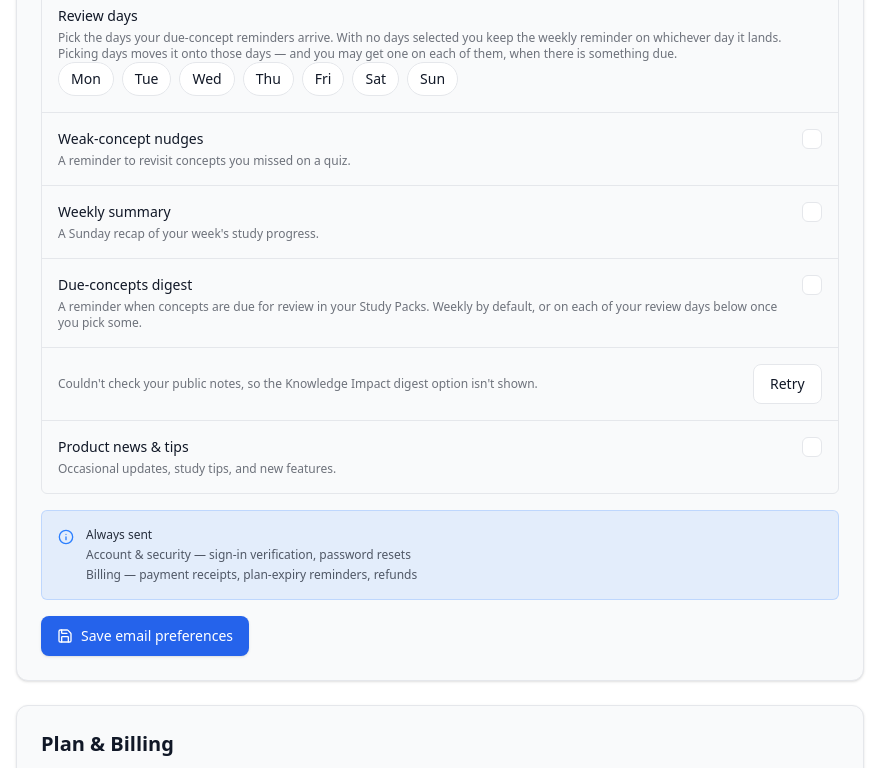
Test: Settings page cancellation flow › shows a retryable notice instead of silently hiding the digest option when the impact check fails
(page scrolled)
Expected: the text "Couldn't check your public notes, so the Knowledge Impact digest option isn't shown." is shown, [58,375,538,392]
Expected: the checkbox named "Weekly summary" is shown, [802,202,822,222]
Step 1. Click the button "Retry" → click(788, 384), box [753,364,822,404]
(page scrolled)
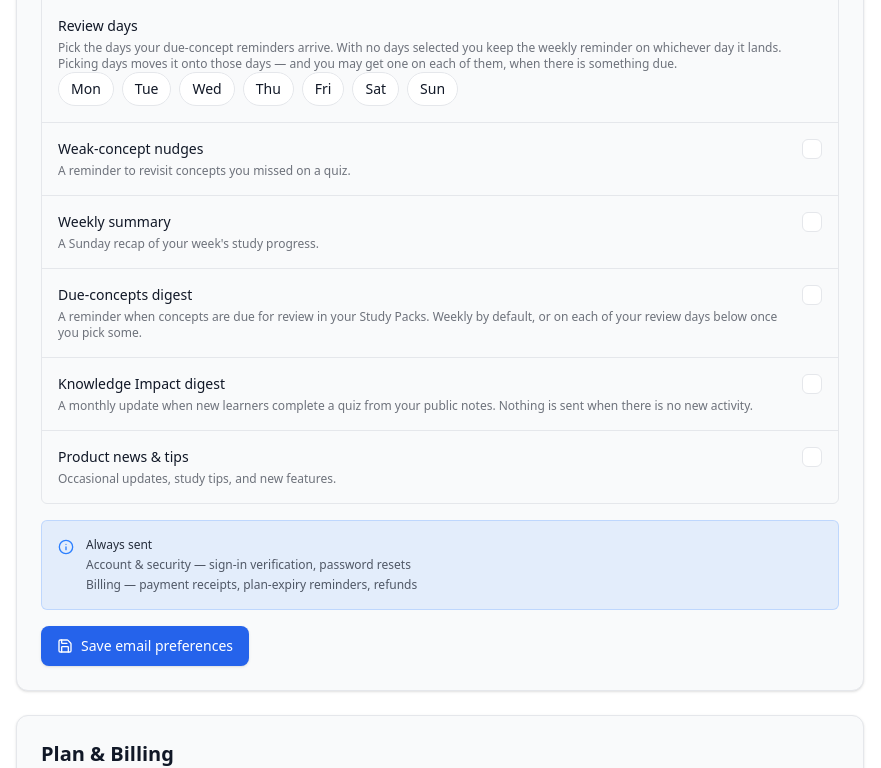
Expected: the checkbox named "Knowledge Impact digest" is shown, [802,374,822,394]
Expected: the text "Couldn't check your public notes, so the Knowledge Impact digest option isn't shown." is gone
